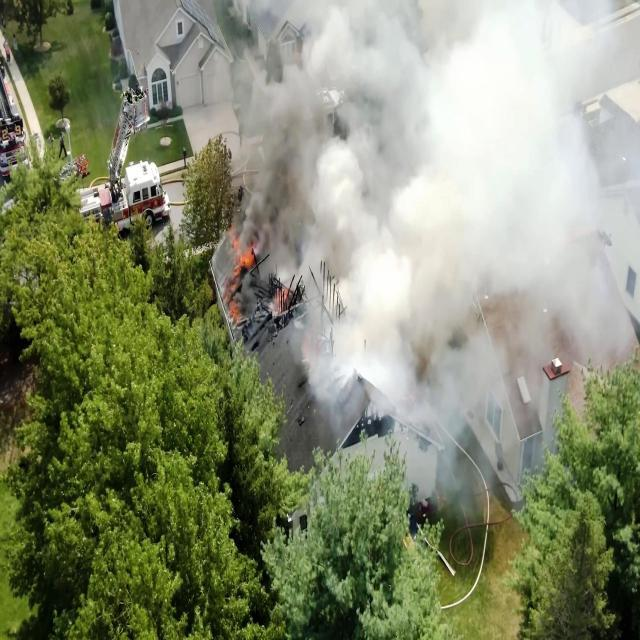Fire: (222, 232, 300, 318)
Smoke: (303, 0, 640, 480), (232, 5, 308, 224)
